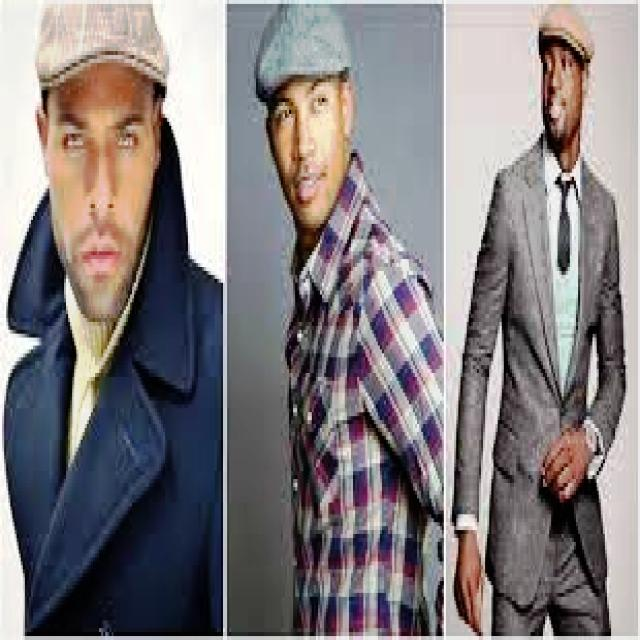TOPI: (31, 0, 171, 98), (248, 0, 355, 102), (530, 0, 594, 67)
